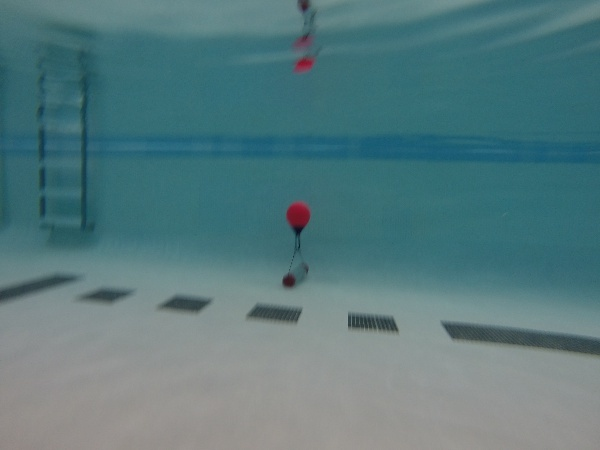buoy_red: (283, 199, 312, 238)
